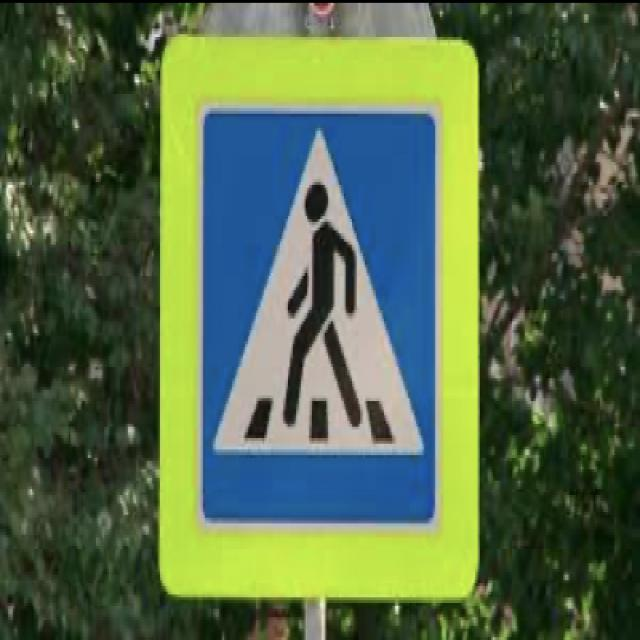crosswalk: (198, 102, 440, 524)
